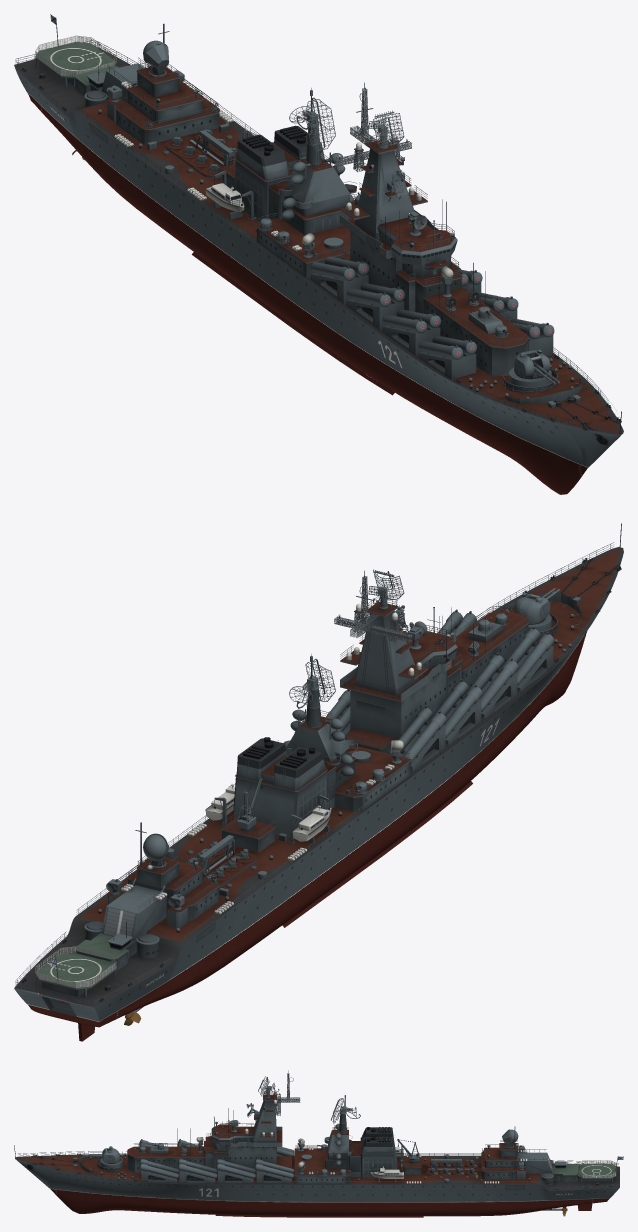
The model's file is slava_class_cruiser.glb.
The picture shows the model from 3 angles, top to bottom: view 1: azimuth 30°, elevation 25°; view 2: azimuth 150°, elevation 25°; view 3: azimuth 270°, elevation 25°; orthographic projection. The views are drawn at different scales.
Parts seen in each view (by area): view 1: Hull, Superstructure, Launchers, Weapons_VLS, TopPair_Radar, Boats, Fregat_Radar, AK130_Turret, TopDome; view 2: Hull, Superstructure, Launchers, Weapons_VLS, Boats, TopPair_Radar, AK130_Turret, TopDome, Fregat_Radar; view 3: Hull, Superstructure, Launchers, Weapons_VLS, Boats, TopPair_Radar, AK130_Turret, TopDome.
Part boxes in pixels (x1,y1,x2,y2): Hull: (14,40,623,494); Superstructure: (21,14,574,397); Launchers: (310,256,554,379); Weapons_VLS: (162,129,237,178); TopPair_Radar: (289,88,335,151); Boats: (205,183,244,219); Fregat_Radar: (368,110,404,147); AK130_Turret: (514,349,550,379); TopDome: (143,40,169,77); Hull: (14,523,623,1041); Superstructure: (21,570,574,1001); Launchers: (326,609,554,772); Weapons_VLS: (165,835,266,887); Boats: (205,784,331,843); TopPair_Radar: (289,654,335,708); AK130_Turret: (514,592,550,624); TopDome: (143,833,168,870); Fregat_Radar: (368,569,404,603); Hull: (14,1145,619,1217); Superstructure: (100,1070,623,1189); Launchers: (139,1139,294,1183); Weapons_VLS: (426,1154,478,1183); Boats: (370,1147,403,1182); TopPair_Radar: (331,1095,360,1123); AK130_Turret: (102,1146,121,1163); TopDome: (502,1129,518,1148).
Bounding box in the file's own units: 20.75 × 48.65 × 188.
3 materials, 3 textured.
